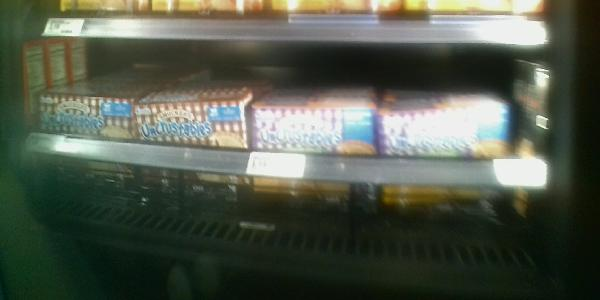icecream: (378, 97, 513, 164), (245, 100, 379, 164), (134, 98, 248, 153), (35, 83, 133, 145)
